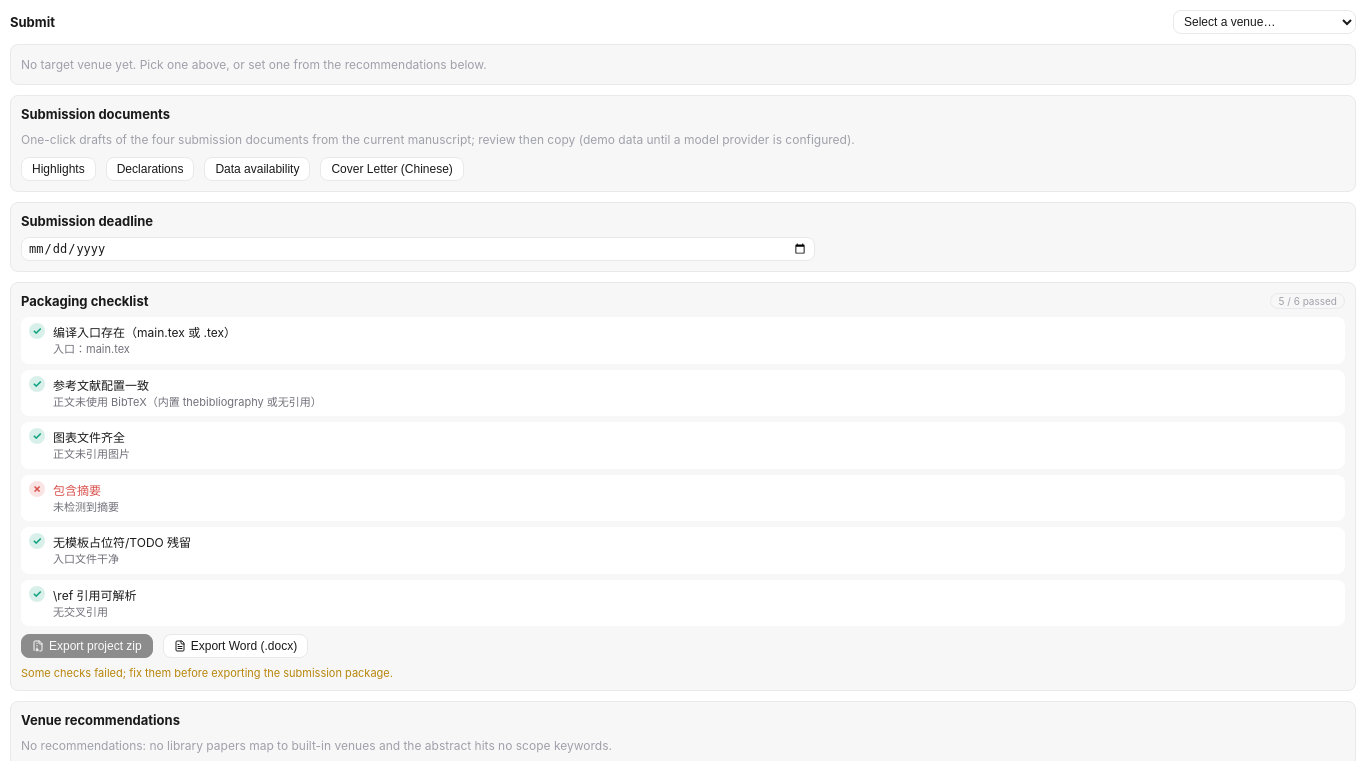
Test case: SubmitPanel「导出 Word (.docx)」 › en 语言显示英文文案
The image size is (1366, 761).
Click the button "Export Word (.docx)".
click(235, 646)  # box top-left (163, 634), bottom-right (308, 658)
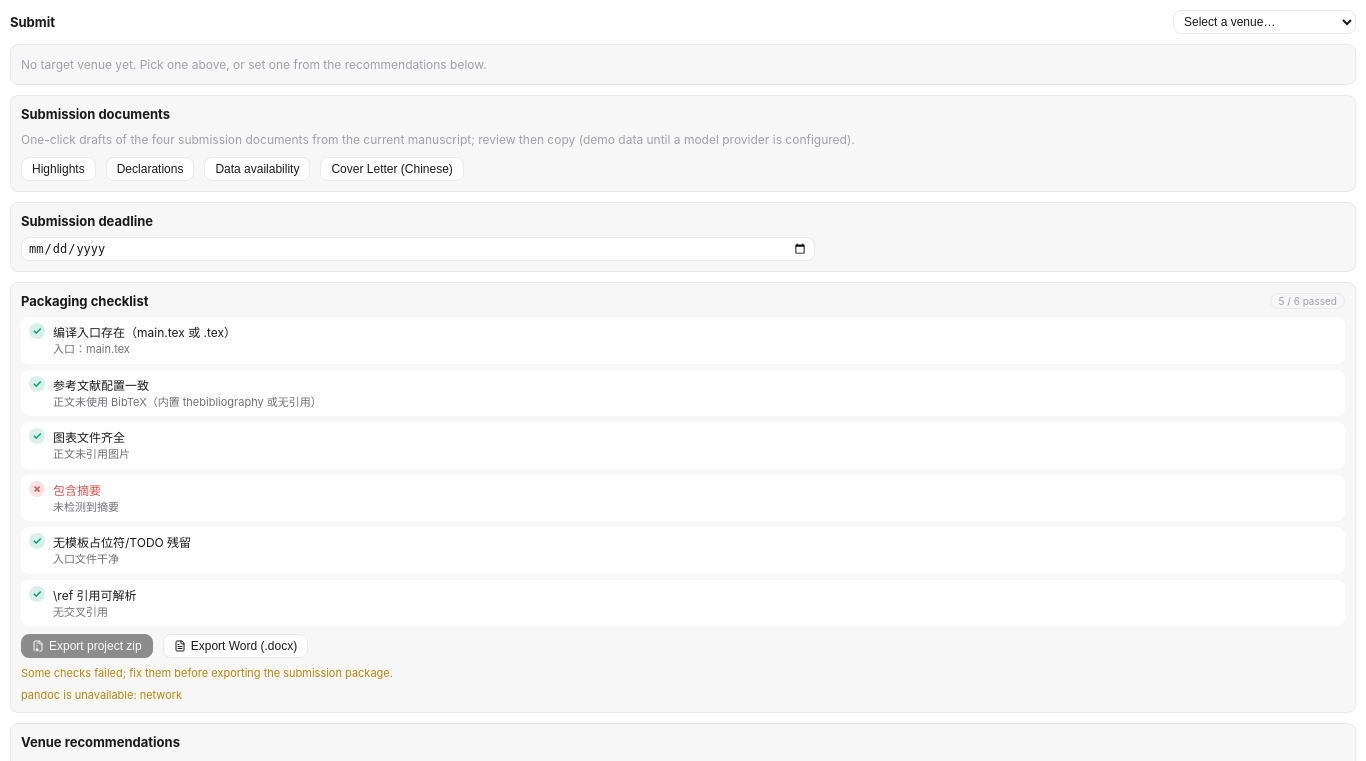
expect the text "pandoc is unavailable" is shown: met, box top-left (21, 688), bottom-right (182, 702)
